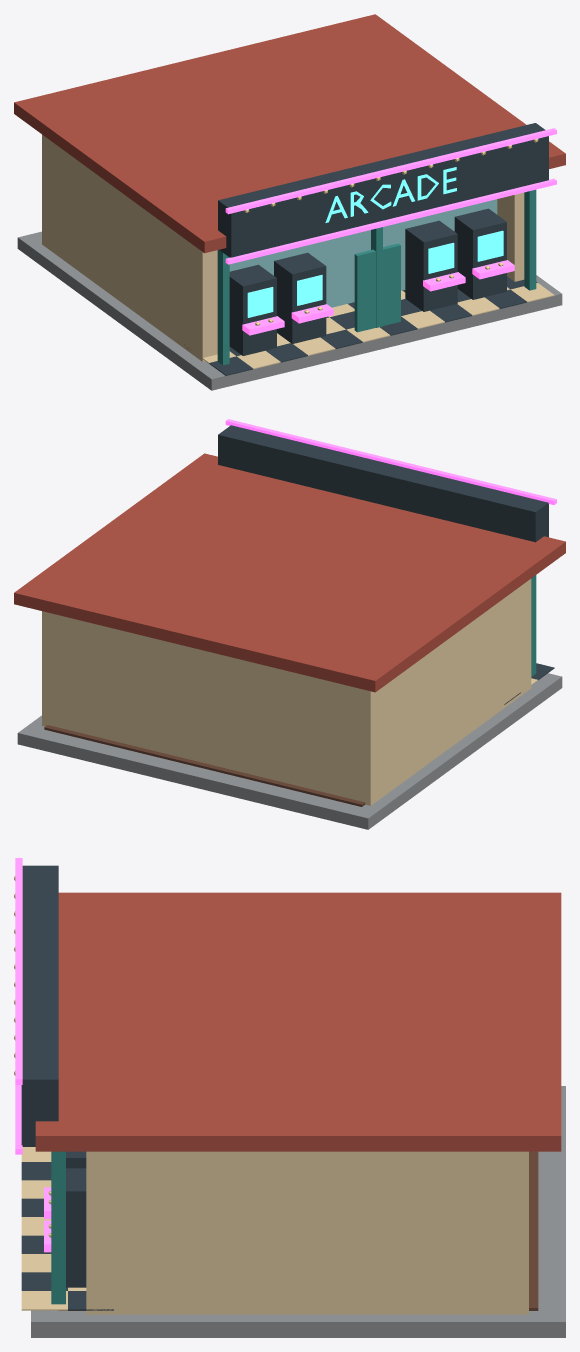
The model's file is arcade.glb.
The picture shows the model from 3 angles, top to bottom: view 1: azimuth 30°, elevation 25°; view 2: azimuth 150°, elevation 25°; view 3: azimuth 270°, elevation 25°; orthographic projection. The views are drawn at different scales.
Parts seen in each view (by area): view 1: flat_roof, side_wall, marquee, foundation, window_back, cabinet.002, door, cabinet.003, cabinet.001, cabinet, neon_edge.001, neon_edge (+18 smaller); view 2: flat_roof, rear_wall, side_wall, marquee, foundation, neon_edge.001, floor, front_post; view 3: flat_roof, side_wall.001, foundation, marquee, rear_wall, cabinet.003, front_post.002, neon_edge.001, floor, checker.033, checker.030.
Part boxes in pixels (<box>): flat_roof: <box>14,14,565,253</box>; side_wall: <box>48,140,217,361</box>; marquee: <box>218,123,548,257</box>; foundation: <box>17,231,562,390</box>; window_back: <box>229,199,497,307</box>; cabinet.002: <box>405,220,457,311</box>; door: <box>354,243,400,332</box>; cabinet.003: <box>454,208,506,299</box>; cabinet.001: <box>274,252,326,343</box>; cabinet: <box>229,264,276,355</box>; neon_edge.001: <box>225,128,556,214</box>; neon_edge: <box>225,178,556,264</box>; flat_roof: <box>14,453,565,692</box>; rear_wall: <box>42,611,380,805</box>; side_wall: <box>377,579,531,800</box>; marquee: <box>218,425,548,542</box>; foundation: <box>17,673,562,829</box>; neon_edge.001: <box>225,419,556,504</box>; floor: <box>44,725,365,806</box>; front_post: <box>531,575,536,676</box>; flat_roof: <box>35,892,561,1151</box>; side_wall.001: <box>86,1151,510,1314</box>; foundation: <box>31,1086,565,1337</box>; marquee: <box>21,865,58,1146</box>; rear_wall: <box>501,1151,528,1314</box>; cabinet.003: <box>66,1168,86,1287</box>; front_post.002: <box>51,1151,65,1304</box>; neon_edge.001: <box>15,858,22,1084</box>; floor: <box>59,1151,538,1310</box>; checker.033: <box>21,1291,67,1310</box>; checker.030: <box>21,1272,67,1290</box>.
Bounding box in the file's own units: 6.6 × 3.18 × 6.33.
